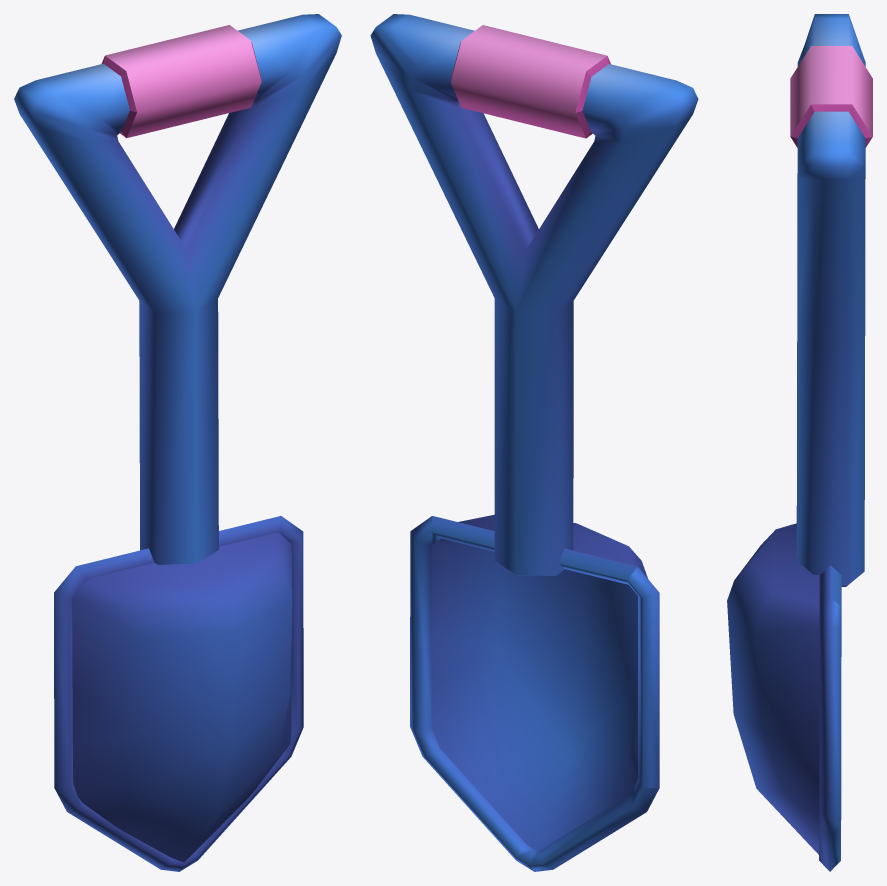
File: AR_Animal_Rabbit_Skin1fxmesh.FBX
3 renders of one model, left to right at view 1: azimuth 30°, elevation 25°; view 2: azimuth 150°, elevation 25°; view 3: azimuth 270°, elevation 25°, orthographic. The views are drawn at different scales.
Visible parts, largest first — view 1: AR_Animal_Rabbit_Skin1fxmesh; view 2: AR_Animal_Rabbit_Skin1fxmesh; view 3: AR_Animal_Rabbit_Skin1fxmesh.
Part boxes in pixels (box(x1,y1,x2,y2)): AR_Animal_Rabbit_Skin1fxmesh: box(14, 14, 341, 871); AR_Animal_Rabbit_Skin1fxmesh: box(370, 14, 698, 871); AR_Animal_Rabbit_Skin1fxmesh: box(727, 14, 872, 871).
Bounding box in the file's own units: 9.45 × 23.98 × 3.99.
